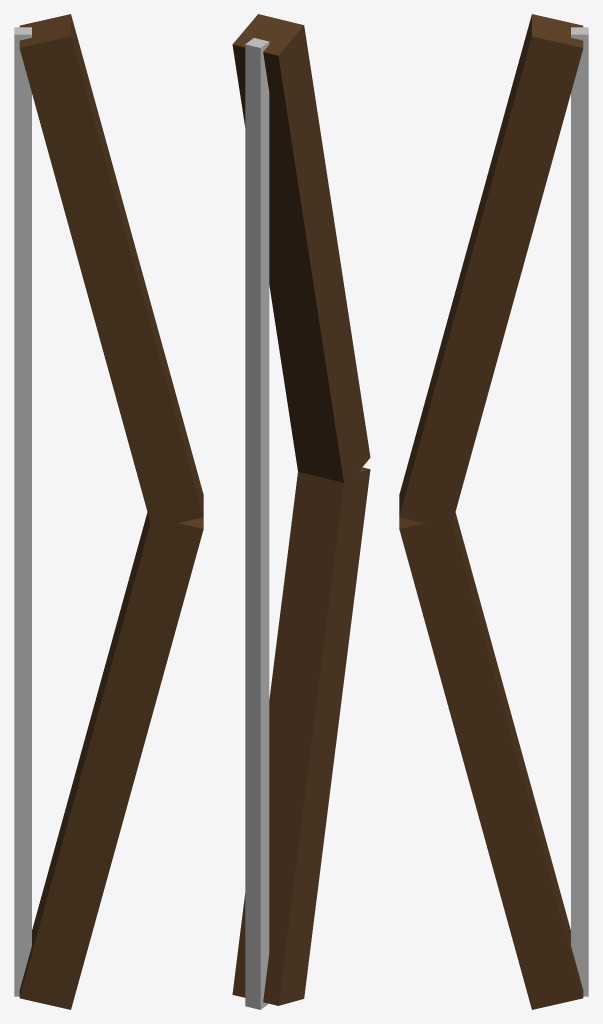
File: tool_bow.glb
3 views of the same model, side by side, from view 1: azimuth 90°, elevation 25°; view 2: azimuth 150°, elevation 25°; view 3: azimuth 270°, elevation 25° (orthographic).
Parts seen in each view (by area): view 1: tool_bow; view 2: tool_bow; view 3: tool_bow.
Part boxes in pixels (left/top/right/bottom): tool_bow: left=14, top=14, right=203, bottom=1009; tool_bow: left=232, top=14, right=370, bottom=1009; tool_bow: left=399, top=14, right=588, bottom=1009.
Size of the model in its own units: 0.012 by 0.2429 by 0.0428.
